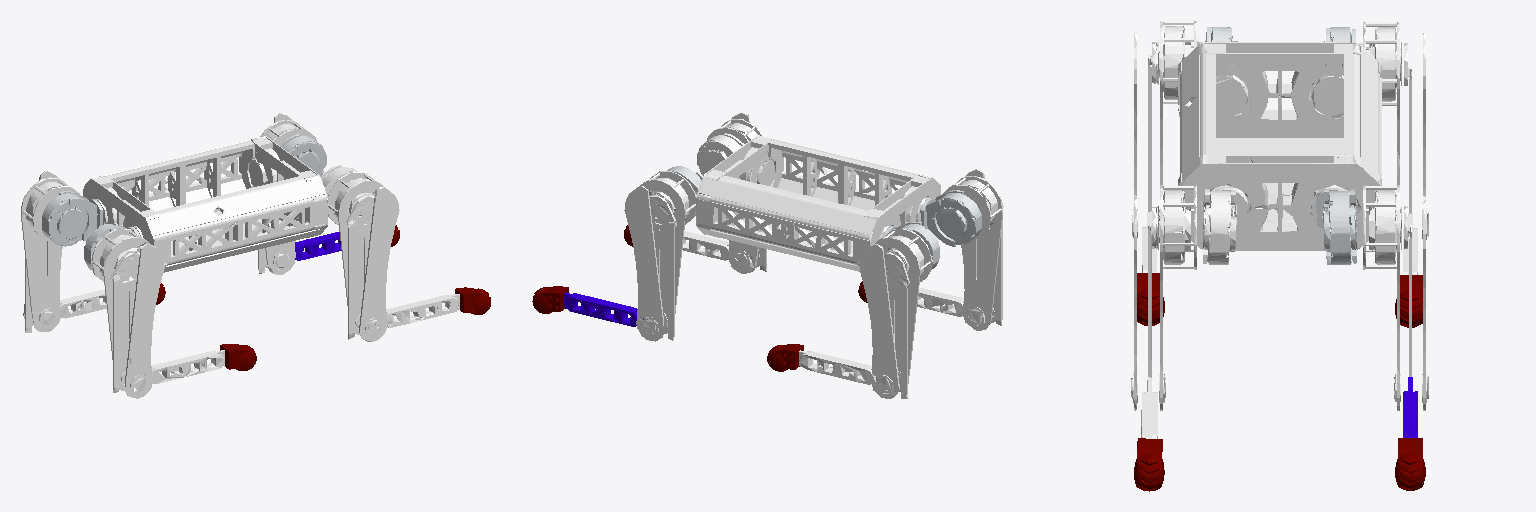
robot.urdf — at_dog_description:
<?xml version="1.0" encoding="utf-8"?>
<!-- This URDF was automatically created by SolidWorks to URDF Exporter! Originally created by Stephen Brawner (brawner@gmail.com) 
     Commit Version: 1.6.0-4-g7f85cfe  Build Version: 1.6.7995.38578
     For more information, please see http://wiki.ros.org/sw_urdf_exporter -->
<robot
  name="at_dog_description">
  <link
    name="body_link">
    <inertial>
      <origin
        xyz="6.3455E-05 0.0025357 0.056203"
        rpy="0 0 0" />
      <mass
        value="4.2135" />
      <inertia
        ixx="0.0060638"
        ixy="-5.3318E-07"
        ixz="5.6918E-06"
        iyy="0.010952"
        iyz="-3.8767E-07"
        izz="0.011761" />
    </inertial>
    <visual>
      <origin
        xyz="0 0 0"
        rpy="0 0 0" />
      <geometry>
        <mesh
          filename="package://at_dog_description/model/body_link.stl" />
      </geometry>
      <material
        name="">
        <color
          rgba="1 1 1 1" />
      </material>
    </visual>
    <collision>
      <origin
        xyz="0 0 0"
        rpy="0 0 0" />
      <geometry>
        <mesh
          filename="package://at_dog_description/model/body_link.stl" />
      </geometry>
    </collision>
  </link>
  <link
    name="lf_link1">
    <inertial>
      <origin
        xyz="0.000574214410691096 0.00884611079249059 0.0444224997613148"
        rpy="0 0 0" />
      <mass
        value="0.305258503824178" />
      <inertia
        ixx="0.000136409457070104"
        ixy="-5.19133329723354E-06"
        ixz="-6.31057525505763E-06"
        iyy="0.000294368731928015"
        iyz="-1.82247860876147E-07"
        izz="0.000186109193953674" />
    </inertial>
    <visual>
      <origin
        xyz="0 0 0"
        rpy="0 0 0" />
      <geometry>
        <mesh
          filename="package://at_dog_description/model/lf_link1.stl" />
      </geometry>
      <material
        name="">
        <color
          rgba="0.898039215686275 0.917647058823529 0.929411764705882 1" />
      </material>
    </visual>
    <collision>
      <origin
        xyz="0 0 0"
        rpy="0 0 0" />
      <geometry>
        <mesh
          filename="package://at_dog_description/model/lf_link1.stl" />
      </geometry>
    </collision>
  </link>
  <joint
    name="lf_joint1"
    type="revolute">
    <origin
      xyz="0.1916 0.069987 0.061999"
      rpy="0 1.5708 0" />
    <parent
      link="body_link" />
    <child
      link="lf_link1" />
    <axis
      xyz="0 0 1" />
    <limit
      lower="-3"
      upper="3"
      effort="20"
      velocity="16" />
  </joint>
  <link
    name="lf_link2">
    <inertial>
      <origin
        xyz="0.0668405851618955 -0.000370930192861829 0.0525635427868991"
        rpy="0 0 0" />
      <mass
        value="0.644661117972557" />
      <inertia
        ixx="0.000307098150625019"
        ixy="-9.81390338081933E-05"
        ixz="7.90371759952034E-08"
        iyy="0.00197756467404996"
        iyz="2.84131524105283E-08"
        izz="0.00225867858450203" />
    </inertial>
    <visual>
      <origin
        xyz="0 0 0"
        rpy="0 0 0" />
      <geometry>
        <mesh
          filename="package://at_dog_description/model/lf_link2.stl" />
      </geometry>
      <material
        name="">
        <color
          rgba="1 1 1 1" />
      </material>
    </visual>
    <collision>
      <origin
        xyz="0 0 0"
        rpy="0 0 0" />
      <geometry>
        <mesh
          filename="package://at_dog_description/model/lf_link2.stl" />
      </geometry>
    </collision>
  </link>
  <joint
    name="lf_joint2"
    type="revolute">
    <origin
      xyz="-0.000957 0.029298 0.060013"
      rpy="-1.5708 0 0" />
    <parent
      link="lf_link1" />
    <child
      link="lf_link2" />
    <axis
      xyz="0 0 1" />
    <limit
      lower="-3"
      upper="3"
      effort="20"
      velocity="16" />
  </joint>
  <link
    name="lf_link3">
    <inertial>
      <origin
        xyz="0.105970507374904 -4.4905745788526E-13 -0.0235"
        rpy="0 0 0" />
      <mass
        value="0.119977441819341" />
      <inertia
        ixx="1.11278403765771E-05"
        ixy="1.86158021235529E-15"
        ixz="3.04742987601871E-19"
        iyy="0.000450737281900616"
        iyz="1.39520627292883E-20"
        izz="0.000461335035038841" />
    </inertial>
    <visual>
      <origin
        xyz="0 0 0"
        rpy="0 0 0" />
      <geometry>
        <mesh
          filename="package://at_dog_description/model/lf_link3.stl" />
      </geometry>
      <material
        name="">
        <color
          rgba="0.266666666666667 0 0.933333333333333 1" />
      </material>
    </visual>
    <collision>
      <origin
        xyz="0 0 0"
        rpy="0 0 0" />
      <geometry>
        <mesh
          filename="package://at_dog_description/model/lf_link3.stl" />
      </geometry>
    </collision>
  </link>
  <joint
    name="lf_joint3"
    type="revolute">
    <origin
      xyz="0.23001 0 0.0935"
      rpy="0 0 -1.5708" />
    <parent
      link="lf_link2" />
    <child
      link="lf_link3" />
    <axis
      xyz="0 0 1" />
    <limit
      lower="-3"
      upper="3"
      effort="20"
      velocity="16" />
  </joint>
  <link
    name="lf_link4">
    <inertial>
      <origin
        xyz="0.0154448407663047 0.00567917549378757 -7.95643565399684E-05"
        rpy="0 0 0" />
      <mass
        value="0.0781571728156937" />
      <inertia
        ixx="2.02902937673578E-05"
        ixy="-4.90264949125268E-06"
        ixz="1.24337921969947E-07"
        iyy="2.89226787552893E-05"
        iyz="4.3803244446045E-08"
        izz="3.36363929644185E-05" />
    </inertial>
    <visual>
      <origin
        xyz="0 0 0"
        rpy="0 0 0" />
      <geometry>
        <mesh
          filename="package://at_dog_description/model/lf_link4.stl" />
      </geometry>
      <material
        name="">
        <color
          rgba="0.482352941176471 0.0274509803921569 0 1" />
      </material>
    </visual>
    <collision>
      <origin
        xyz="0 0 0"
        rpy="0 0 0" />
      <geometry>
        <mesh
          filename="package://at_dog_description/model/lf_link4.stl" />
      </geometry>
    </collision>
  </link>
  <joint
    name="lf_joint4"
    type="fixed">
    <origin
      xyz="0.243132280457965 0.0121889545734945 -0.0235007169194983"
      rpy="0 0 -3.14159265358976" />
    <parent
      link="lf_link3" />
    <child
      link="lf_link4" />
    <axis
      xyz="0 0 0" />
  </joint>
  <link
    name="rf_link1">
    <inertial>
      <origin
        xyz="-0.00109457184247583 -0.00876291363938825 0.0445470026411997"
        rpy="0 0 0" />
      <mass
        value="0.305258502432481" />
      <inertia
        ixx="0.000136439797713075"
        ixy="5.6338792255622E-06"
        ixz="6.31053900638573E-06"
        iyy="0.000294338400343345"
        iyz="-1.8646971344753E-07"
        izz="0.000186109189962905" />
    </inertial>
    <visual>
      <origin
        xyz="0 0 0"
        rpy="0 0 0" />
      <geometry>
        <mesh
          filename="package://at_dog_description/model/rf_link1.stl" />
      </geometry>
      <material
        name="">
        <color
          rgba="1 1 1 1" />
      </material>
    </visual>
    <collision>
      <origin
        xyz="0 0 0"
        rpy="0 0 0" />
      <geometry>
        <mesh
          filename="package://at_dog_description/model/rf_link1.stl" />
      </geometry>
    </collision>
  </link>
  <joint
    name="rf_joint1"
    type="revolute">
    <origin
      xyz="0.1916 -0.070013 0.061999"
      rpy="0 1.5708 0" />
    <parent
      link="body_link" />
    <child
      link="rf_link1" />
    <axis
      xyz="0 0 1" />
    <limit
      lower="-3"
      upper="3"
      effort="20"
      velocity="16" />
  </joint>
  <link
    name="rf_link2">
    <inertial>
      <origin
        xyz="0.0658455636335398 0.000279500969859597 0.0526642960362097"
        rpy="0 0 0" />
      <mass
        value="0.65339621713157" />
      <inertia
        ixx="0.000309147954108996"
        ixy="9.87787340388029E-05"
        ixz="7.92539358673894E-08"
        iyy="0.00197932450216303"
        iyz="3.2988958434547E-08"
        izz="0.00226247511344723" />
    </inertial>
    <visual>
      <origin
        xyz="0 0 0"
        rpy="0 0 0" />
      <geometry>
        <mesh
          filename="package://at_dog_description/model/rf_link2.stl" />
      </geometry>
      <material
        name="">
        <color
          rgba="1 1 1 1" />
      </material>
    </visual>
    <collision>
      <origin
        xyz="0 0 0"
        rpy="0 0 0" />
      <geometry>
        <mesh
          filename="package://at_dog_description/model/rf_link2.stl" />
      </geometry>
    </collision>
  </link>
  <joint
    name="rf_joint2"
    type="revolute">
    <origin
      xyz="-0.0010387 -0.029268 0.059987"
      rpy="1.5708 0 0" />
    <parent
      link="rf_link1" />
    <child
      link="rf_link2" />
    <axis
      xyz="0 0 1" />
    <limit
      lower="-3"
      upper="3"
      effort="20"
      velocity="16" />
  </joint>
  <link
    name="rf_link3">
    <inertial>
      <origin
        xyz="0.105970507374862 -0.000844712791463531 -0.0234848133971709"
        rpy="0 0 0" />
      <mass
        value="0.11997744181934" />
      <inertia
        ixx="1.11278403765771E-05"
        ixy="3.35079108269132E-15"
        ixz="-1.20534462607847E-16"
        iyy="0.000450750974825162"
        iyz="3.806924452985E-07"
        izz="0.000461321342114293" />
    </inertial>
    <visual>
      <origin
        xyz="0 0 0"
        rpy="0 0 0" />
      <geometry>
        <mesh
          filename="package://at_dog_description/model/rf_link3.stl" />
      </geometry>
      <material
        name="">
        <color
          rgba="1 1 1 1" />
      </material>
    </visual>
    <collision>
      <origin
        xyz="0 0 0"
        rpy="0 0 0" />
      <geometry>
        <mesh
          filename="package://at_dog_description/model/rf_link3.stl" />
      </geometry>
    </collision>
  </link>
  <joint
    name="rf_joint3"
    type="revolute">
    <origin
      xyz="0.22999 1.0169E-05 0.0935"
      rpy="0.0 0.0 1.5708" />
    <parent
      link="rf_link2" />
    <child
      link="rf_link3" />
    <axis
      xyz="0 0 1" />
    <limit
      lower="-3"
      upper="3"
      effort="20"
      velocity="16" />
  </joint>
  <link
    name="rf_link4">
    <inertial>
      <origin
        xyz="-0.015444838632904 -0.00567917512845761 -7.95605609113792E-05"
        rpy="0 0 0" />
      <mass
        value="0.0781571826488302" />
      <inertia
        ixx="2.02902954182646E-05"
        ixy="-4.90264692697193E-06"
        ixz="-1.24336036697789E-07"
        iyy="2.89226745098256E-05"
        iyz="-4.38023682269847E-08"
        izz="3.36363894044616E-05" />
    </inertial>
    <visual>
      <origin
        xyz="0 0 0"
        rpy="0 0 0" />
      <geometry>
        <mesh
          filename="package://at_dog_description/model/rf_link4.stl" />
      </geometry>
      <material
        name="">
        <color
          rgba="0.482352941176471 0.0274509803921569 0 1" />
      </material>
    </visual>
    <collision>
      <origin
        xyz="0 0 0"
        rpy="0 0 0" />
      <geometry>
        <mesh
          filename="package://at_dog_description/model/rf_link4.stl" />
      </geometry>
    </collision>
  </link>
  <joint
    name="rf_joint4"
    type="fixed">
    <origin
      xyz="0.24313 -0.013026 -0.023046"
      rpy="3.1056 0 0" />
    <parent
      link="rf_link3" />
    <child
      link="rf_link4" />
    <axis
      xyz="0 0 0" />
  </joint>
  <link
    name="lb_link1">
    <inertial>
      <origin
        xyz="-0.000761615764585902 -0.00879802417335245 0.0445470016764847"
        rpy="0 0 0" />
      <mass
        value="0.305258519686429" />
      <inertia
        ixx="0.000136239807114161"
        ixy="-3.5439680920138E-07"
        ixz="6.31310558322909E-06"
        iyy="0.000294538341105878"
        iyz="5.25121616391754E-08"
        izz="0.000186109182179804" />
    </inertial>
    <visual>
      <origin
        xyz="0 0 0"
        rpy="0 0 0" />
      <geometry>
        <mesh
          filename="package://at_dog_description/model/lb_link1.stl" />
      </geometry>
      <material
        name="">
        <color
          rgba="0.898039215686275 0.917647058823529 0.929411764705882 1" />
      </material>
    </visual>
    <collision>
      <origin
        xyz="0 0 0"
        rpy="0 0 0" />
      <geometry>
        <mesh
          filename="package://at_dog_description/model/lb_link1.stl" />
      </geometry>
    </collision>
  </link>
  <joint
    name="lb_joint1"
    type="revolute">
    <origin
      xyz="-0.1916 0.070013 0.061999"
      rpy="3.1416 1.5708 0" />
    <parent
      link="body_link" />
    <child
      link="lb_link1" />
    <axis
      xyz="0 0 1" />
    <limit
      lower="-3"
      upper="3"
      effort="20"
      velocity="16" />
  </joint>
  <link
    name="lb_link2">
    <inertial>
      <origin
        xyz="0.064125479765734 -0.000392291124556313 0.0504984235754739"
        rpy="0 0 0" />
      <mass
        value="0.673603806804068" />
      <inertia
        ixx="0.000313201125675458"
        ixy="-9.82132639032305E-05"
        ixz="2.81460316571121E-08"
        iyy="0.00198416730894395"
        iyz="-3.26253038102869E-08"
        izz="0.00227128289469757" />
    </inertial>
    <visual>
      <origin
        xyz="0 0 0"
        rpy="0 0 0" />
      <geometry>
        <mesh
          filename="package://at_dog_description/model/lb_link2.stl" />
      </geometry>
      <material
        name="">
        <color
          rgba="1 1 1 1" />
      </material>
    </visual>
    <collision>
      <origin
        xyz="0 0 0"
        rpy="0 0 0" />
      <geometry>
        <mesh
          filename="package://at_dog_description/model/lb_link2.stl" />
      </geometry>
    </collision>
  </link>
  <joint
    name="lb_joint2"
    type="revolute">
    <origin
      xyz="7.0296E-05 -0.029287 0.059987"
      rpy="1.5708 0 0" />
    <parent
      link="lb_link1" />
    <child
      link="lb_link2" />
    <axis
      xyz="0 0 1" />
    <limit
      lower="-3"
      upper="3"
      effort="20"
      velocity="16" />
  </joint>
  <link
    name="lb_link3">
    <inertial>
      <origin
        xyz="0.105970507375359 9.48685574542196E-13 -0.0235000000000325"
        rpy="0 0 0" />
      <mass
        value="0.119977441819341" />
      <inertia
        ixx="1.1127840376577E-05"
        ixy="-2.2621509869578E-15"
        ixz="-3.73359054996998E-19"
        iyy="0.000450737281900616"
        iyz="4.24039854346017E-20"
        izz="0.000461335035038841" />
    </inertial>
    <visual>
      <origin
        xyz="0 0 0"
        rpy="0 0 0" />
      <geometry>
        <mesh
          filename="package://at_dog_description/model/lb_link3.stl" />
      </geometry>
      <material
        name="">
        <color
          rgba="1 1 1 1" />
      </material>
    </visual>
    <collision>
      <origin
        xyz="0 0 0"
        rpy="0 0 0" />
      <geometry>
        <mesh
          filename="package://at_dog_description/model/lb_link3.stl" />
      </geometry>
    </collision>
  </link>
  <joint
    name="lb_joint3"
    type="revolute">
    <origin
      xyz="0.23001 0 0.0935"
      rpy="0 0 -1.5708" />
    <parent
      link="lb_link2" />
    <child
      link="lb_link3" />
    <axis
      xyz="0 0 1" />
    <limit
      lower="-3"
      upper="3"
      effort="20"
      velocity="16" />
  </joint>
  <link
    name="lb_link4">
    <inertial>
      <origin
        xyz="-0.015444850801401 -0.00567917659673944 -7.95670697935347E-05"
        rpy="0 0 0" />
      <mass
        value="0.0781572031669603" />
      <inertia
        ixx="2.02903001009682E-05"
        ixy="-4.90265805169401E-06"
        ixz="-1.24331241658099E-07"
        iyy="2.89227008717912E-05"
        iyz="-4.38011856737799E-08"
        izz="3.36364146037888E-05" />
    </inertial>
    <visual>
      <origin
        xyz="0 0 0"
        rpy="0 0 0" />
      <geometry>
        <mesh
          filename="package://at_dog_description/model/lb_link4.stl" />
      </geometry>
      <material
        name="">
        <color
          rgba="0.482352941176471 0.0274509803921569 0 1" />
      </material>
    </visual>
    <collision>
      <origin
        xyz="0 0 0"
        rpy="0 0 0" />
      <geometry>
        <mesh
          filename="package://at_dog_description/model/lb_link4.stl" />
      </geometry>
    </collision>
  </link>
  <joint
    name="lb_joint4"
    type="fixed">
    <origin
      xyz="0.24313 0.012189 -0.023501"
      rpy="0 0 0" />
    <parent
      link="lb_link3" />
    <child
      link="lb_link4" />
    <axis
      xyz="0 0 0" />
  </joint>
  <link
    name="rb_link1">
    <inertial>
      <origin
        xyz="0.000187256165425143 0.00884962036985371 0.044422434717429"
        rpy="0 0 0" />
      <mass
        value="0.305258557068333" />
      <inertia
        ixx="0.000137168196858531"
        ixy="-1.2092678004834E-05"
        ixz="-6.2965939305279E-06"
        iyy="0.000293610016562724"
        iyz="-4.58862723744528E-07"
        izz="0.000186109331923214" />
    </inertial>
    <visual>
      <origin
        xyz="0 0 0"
        rpy="0 0 0" />
      <geometry>
        <mesh
          filename="package://at_dog_description/model/rb_link1.stl" />
      </geometry>
      <material
        name="">
        <color
          rgba="0.898039215686275 0.917647058823529 0.929411764705882 1" />
      </material>
    </visual>
    <collision>
      <origin
        xyz="0 0 0"
        rpy="0 0 0" />
      <geometry>
        <mesh
          filename="package://at_dog_description/model/rb_link1.stl" />
      </geometry>
    </collision>
  </link>
  <joint
    name="rb_joint1"
    type="revolute">
    <origin
      xyz="-0.1916 -0.07 0.062"
      rpy="3.1416 1.5708 0" />
    <parent
      link="body_link" />
    <child
      link="rb_link1" />
    <axis
      xyz="0 0 1" />
    <limit
      lower="-3"
      upper="3"
      effort="20"
      velocity="16" />
  </joint>
  <link
    name="rb_link2">
    <inertial>
      <origin
        xyz="0.0629593323918275 0.000213693775697132 0.0506213393446128"
        rpy="0 0 0" />
      <mass
        value="0.682338894787625" />
      <inertia
        ixx="0.000315648976850417"
        ixy="9.86408914485747E-05"
        ixz="7.95340854721208E-08"
        iyy="0.0019855291988006"
        iyz="3.31094413201453E-08"
        izz="0.00227507953547341" />
    </inertial>
    <visual>
      <origin
        xyz="0 0 0"
        rpy="0 0 0" />
      <geometry>
        <mesh
          filename="package://at_dog_description/model/rb_link2.stl" />
      </geometry>
      <material
        name="">
        <color
          rgba="1 1 1 1" />
      </material>
    </visual>
    <collision>
      <origin
        xyz="0 0 0"
        rpy="0 0 0" />
      <geometry>
        <mesh
          filename="package://at_dog_description/model/rb_link2.stl" />
      </geometry>
    </collision>
  </link>
  <joint
    name="rb_joint2"
    type="revolute">
    <origin
      xyz="-0.0022402 0.029214 0.06"
      rpy="-1.5708 0 0" />
    <parent
      link="rb_link1" />
    <child
      link="rb_link2" />
    <axis
      xyz="0 0 1" />
    <limit
      lower="-3"
      upper="3"
      effort="20"
      velocity="16" />
  </joint>
  <link
    name="rb_link3">
    <inertial>
      <origin
        xyz="0.105970507374419 8.04911692853238E-14 -0.0235"
        rpy="0 0 0" />
      <mass
        value="0.119977441819341" />
      <inertia
        ixx="1.11278403765772E-05"
        ixy="3.45168043588496E-16"
        ixz="1.87403858665015E-20"
        iyy="0.000450737281900616"
        iyz="1.92526525744362E-21"
        izz="0.000461335035038841" />
    </inertial>
    <visual>
      <origin
        xyz="0 0 0"
        rpy="0 0 0" />
      <geometry>
        <mesh
          filename="package://at_dog_description/model/rb_link3.stl" />
      </geometry>
      <material
        name="">
        <color
          rgba="1 1 1 1" />
      </material>
    </visual>
    <collision>
      <origin
        xyz="0 0 0"
        rpy="0 0 0" />
      <geometry>
        <mesh
          filename="package://at_dog_description/model/rb_link3.stl" />
      </geometry>
    </collision>
  </link>
  <joint
    name="rb_joint3"
    type="revolute">
    <origin
      xyz="0.23 0 0.0935"
      rpy="0 0 1.5708" />
    <parent
      link="rb_link2" />
    <child
      link="rb_link3" />
    <axis
      xyz="0 0 1" />
    <limit
      lower="-3"
      upper="3"
      effort="20"
      velocity="16" />
  </joint>
  <link
    name="rb_link4">
    <inertial>
      <origin
        xyz="-0.0154448559267893 0.0056791770623239 7.95636715325843E-05"
        rpy="0 0 0" />
      <mass
        value="0.0781572323930169" />
      <inertia
        ixx="2.02903028829302E-05"
        ixy="4.90266017080894E-06"
        ixz="1.24325528166021E-07"
        iyy="2.8922712682634E-05"
        iyz="-4.37982257395011E-08"
        izz="3.36364252400607E-05" />
    </inertial>
    <visual>
      <origin
        xyz="0 0 0"
        rpy="0 0 0" />
      <geometry>
        <mesh
          filename="package://at_dog_description/model/rb_link4.stl" />
      </geometry>
      <material
        name="">
        <color
          rgba="0.482352941176471 0.0274509803921569 0 1" />
      </material>
    </visual>
    <collision>
      <origin
        xyz="0 0 0"
        rpy="0 0 0" />
      <geometry>
        <mesh
          filename="package://at_dog_description/model/rb_link4.stl" />
      </geometry>
    </collision>
  </link>
  <joint
    name="rb_joint4"
    type="fixed">
    <origin
      xyz="0.24313 -0.012189 -0.023499"
      rpy="0 0 0" />
    <parent
      link="rb_link3" />
    <child
      link="rb_link4" />
    <axis
      xyz="0 0 0" />
  </joint>
</robot>

--- Render facts (derived) ---
3 views of the same robot in one strip: view 1: azimuth 30°, elevation 25°; view 2: azimuth 150°, elevation 25°; view 3: azimuth 270°, elevation 25° (orthographic).
Robot: at_dog_description — 17 links, 16 joints (12 revolute, 4 fixed); root link body_link; default pose: all joints at 0.
Visible links, largest first — view 1: body_link, rf_link2, rb_link2, lb_link2, lb_link1, lf_link2, rb_link3, rf_link3, lf_link1, lb_link3, lf_link3, rb_link4 (+2 smaller); view 2: body_link, lb_link2, lf_link2, rb_link2, rb_link1, rf_link2, lf_link3, lb_link3, rf_link1, rb_link3, rf_link3, lb_link4 (+2 smaller); view 3: body_link, rf_link2, lf_link2, rb_link2, lb_link2, lf_link1, rf_link1, rf_link4, lf_link4, lb_link4, rb_link4, rf_link3 (+2 smaller).
Boxes of the visible links, bbox=[...] form: body_link: bbox=[83, 136, 327, 272]; rf_link2: bbox=[328, 172, 399, 341]; rb_link2: bbox=[92, 229, 164, 398]; lb_link2: bbox=[21, 171, 79, 332]; lb_link1: bbox=[42, 191, 102, 246]; lf_link2: bbox=[258, 113, 316, 274]; rb_link3: bbox=[134, 350, 224, 387]; rf_link3: bbox=[370, 294, 459, 327]; lf_link1: bbox=[279, 134, 326, 176]; lb_link3: bbox=[42, 289, 106, 320]; lf_link3: bbox=[295, 232, 341, 260]; rb_link4: bbox=[220, 344, 256, 370]; body_link: bbox=[696, 135, 940, 271]; lb_link2: bbox=[860, 229, 932, 398]; lf_link2: bbox=[624, 171, 695, 341]; rb_link2: bbox=[943, 169, 1003, 330]; rb_link1: bbox=[920, 190, 981, 246]; rf_link2: bbox=[707, 113, 766, 273]; lf_link3: bbox=[564, 292, 643, 326]; lb_link3: bbox=[799, 350, 871, 384]; rf_link1: bbox=[697, 133, 744, 175]; rb_link3: bbox=[917, 287, 974, 316]; rf_link3: bbox=[682, 231, 741, 260]; lb_link4: bbox=[767, 344, 803, 371]; body_link: bbox=[1178, 42, 1381, 250]; rf_link2: bbox=[1131, 185, 1196, 410]; lf_link2: bbox=[1363, 185, 1428, 410]; rb_link2: bbox=[1132, 21, 1201, 237]; lb_link2: bbox=[1359, 22, 1428, 239]; lf_link1: bbox=[1316, 188, 1356, 264]; rf_link1: bbox=[1203, 188, 1243, 264]; rf_link4: bbox=[1134, 438, 1164, 491]; lf_link4: bbox=[1395, 438, 1425, 490]; lb_link4: bbox=[1395, 275, 1422, 327]; rb_link4: bbox=[1137, 273, 1164, 325]; rf_link3: bbox=[1141, 377, 1157, 438].
Bounding box of the posed robot: 0.8194 × 0.3856 × 0.3274 m (x, y, z).
17 mesh visuals loaded from 17 distinct referenced files (17 binary STL).
